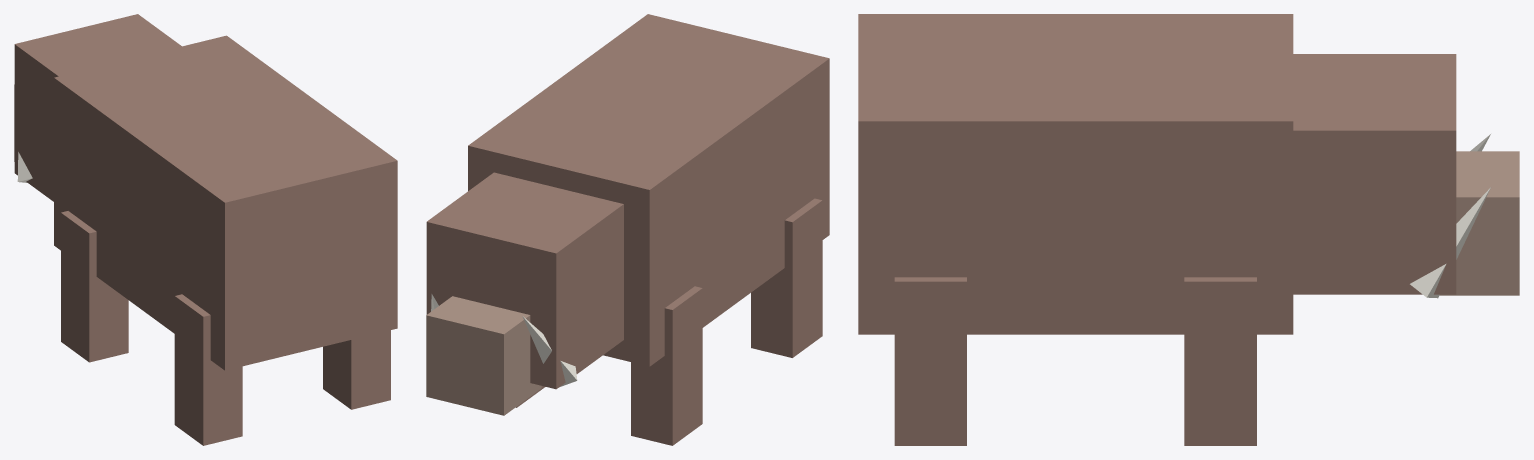
Rendered from monster_boar.glb.
The picture shows the model from 3 angles, left to right: view 1: azimuth 30°, elevation 25°; view 2: azimuth 150°, elevation 25°; view 3: azimuth 270°, elevation 25°; orthographic projection. The views are drawn at different scales.
Parts seen in each view (by area): view 1: Cube, Cube.001, Cube.003, Cube.005, Cube.004; view 2: Cube, Cube.001, Cube.002, Cube.005, Cube.003, Cone; view 3: Cube, Cube.001, Cube.004, Cube.006, Cube.002, Cone.001.
Part boxes in pixels (x1,y1,x2,y2): Cube: (54,35,397,370); Cube.001: (14,14,181,201); Cube.003: (174,294,242,445); Cube.005: (61,211,128,362); Cube.004: (323,330,390,409); Cube: (468,14,829,366); Cube.001: (426,172,623,389); Cube.002: (426,296,541,415); Cube.005: (631,286,702,445); Cube.003: (751,198,822,357); Cone: (522,316,577,387); Cube: (858,14,1293,334); Cube.001: (1293,54,1456,294); Cube.004: (894,277,966,445); Cube.006: (1184,277,1256,445); Cube.002: (1439,151,1519,295); Cone.001: (1410,187,1490,298).
Size of the model in its own units: 0.76 by 0.975 by 1.83.
